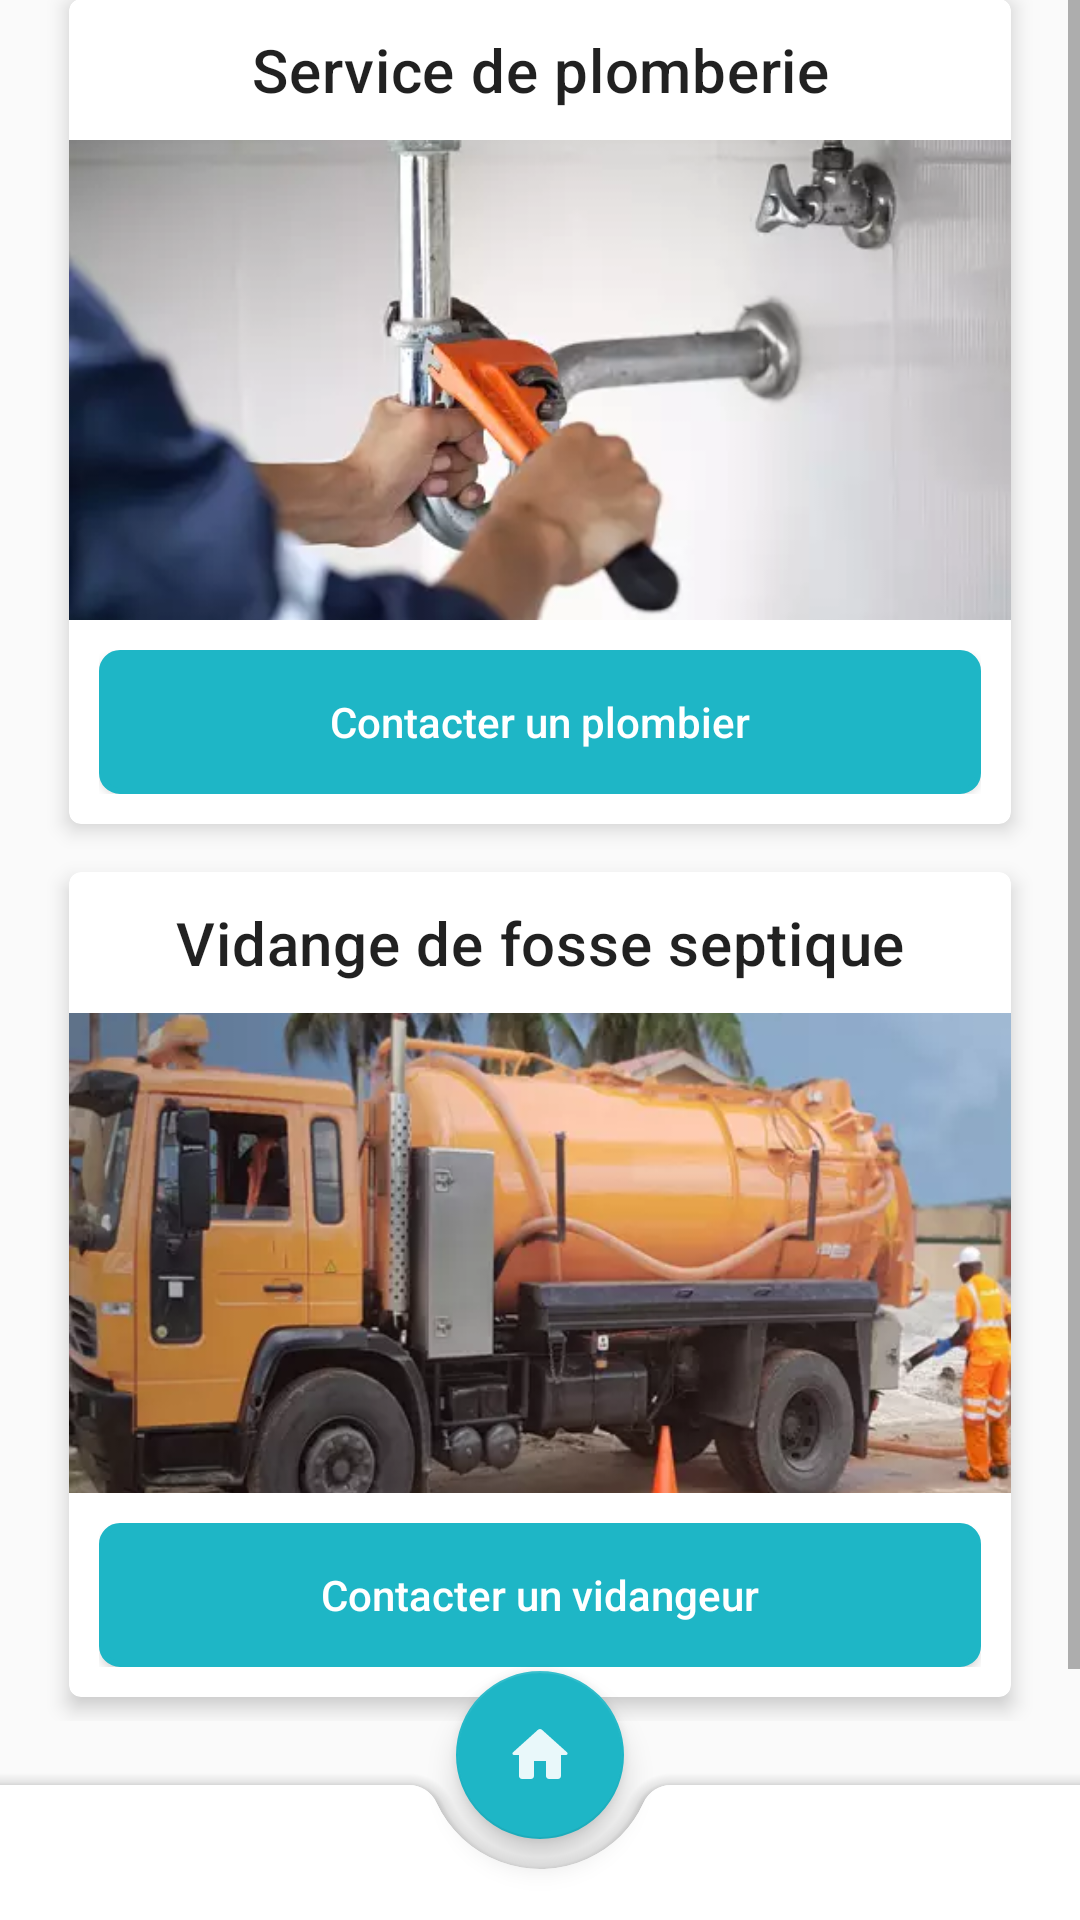

Icon click points for this 1080 × 1920 phone screenshot, format point (x, y):
home: point (540, 1785)
